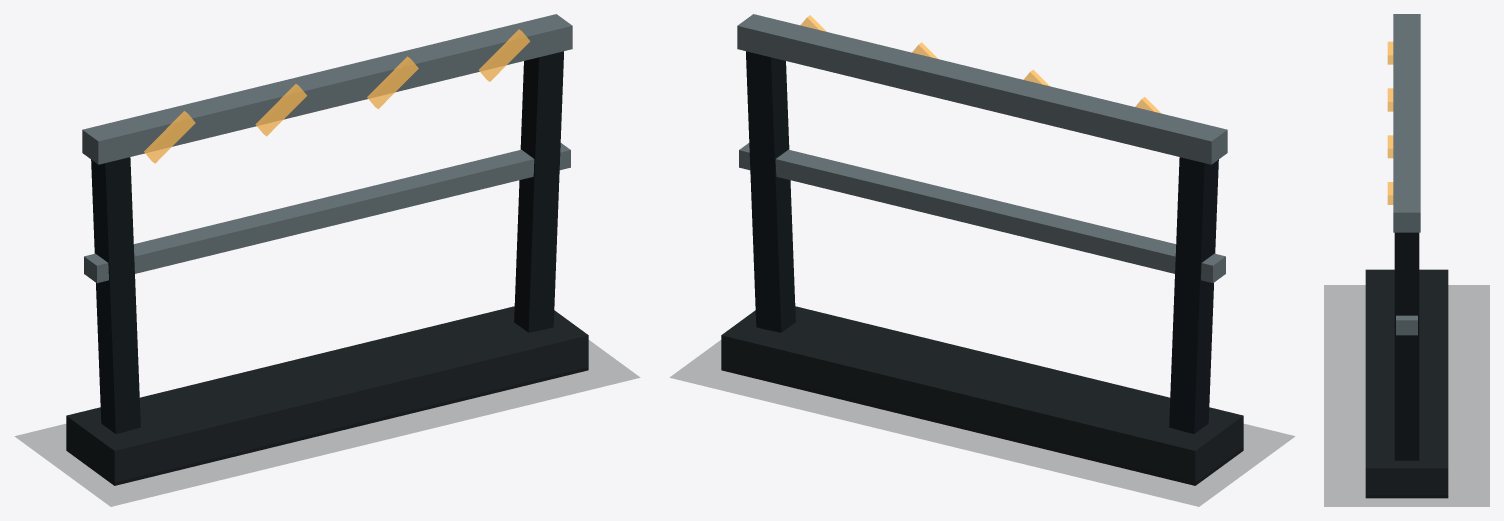
Rendered from hp_room_cyber_hazard_barrier.glb.
3 renders of one model, left to right at view 1: azimuth 30°, elevation 25°; view 2: azimuth 150°, elevation 25°; view 3: azimuth 270°, elevation 25°, orthographic. The views are drawn at different scales.
Visible parts, largest first — view 1: kick_plate, rail_top, contact_shadow, rail_mid, post_right, post_left, hazard_chevron_0, hazard_chevron_3, hazard_chevron_2, hazard_chevron_1; view 2: kick_plate, rail_top, contact_shadow, rail_mid, post_right, post_left; view 3: contact_shadow, kick_plate, rail_top, post_right, rail_mid.
Boxes of the visible parts, left/top/right/bottom form: kick_plate: left=66, top=306, right=588, bottom=485; rail_top: left=82, top=14, right=572, bottom=164; contact_shadow: left=15, top=340, right=639, bottom=506; rail_mid: left=84, top=143, right=570, bottom=283; post_right: left=514, top=51, right=563, bottom=332; post_left: left=91, top=157, right=140, bottom=433; hazard_chevron_0: left=144, top=111, right=195, bottom=163; hazard_chevron_3: left=479, top=29, right=530, bottom=81; hazard_chevron_2: left=367, top=56, right=418, bottom=109; hazard_chevron_1: left=255, top=84, right=306, bottom=136; kick_plate: left=721, top=306, right=1243, bottom=485; rail_top: left=737, top=14, right=1227, bottom=164; contact_shadow: left=670, top=340, right=1294, bottom=506; rail_mid: left=739, top=143, right=1225, bottom=283; post_right: left=746, top=51, right=795, bottom=332; post_left: left=1169, top=157, right=1218, bottom=433; contact_shadow: left=1324, top=285, right=1489, bottom=506; kick_plate: left=1365, top=269, right=1448, bottom=498; rail_top: left=1393, top=14, right=1420, bottom=232; post_right: left=1394, top=232, right=1419, bottom=460; rail_mid: left=1396, top=315, right=1417, bottom=335.
Bounding box in the file's own units: 1.9 × 1.17 × 0.6.
